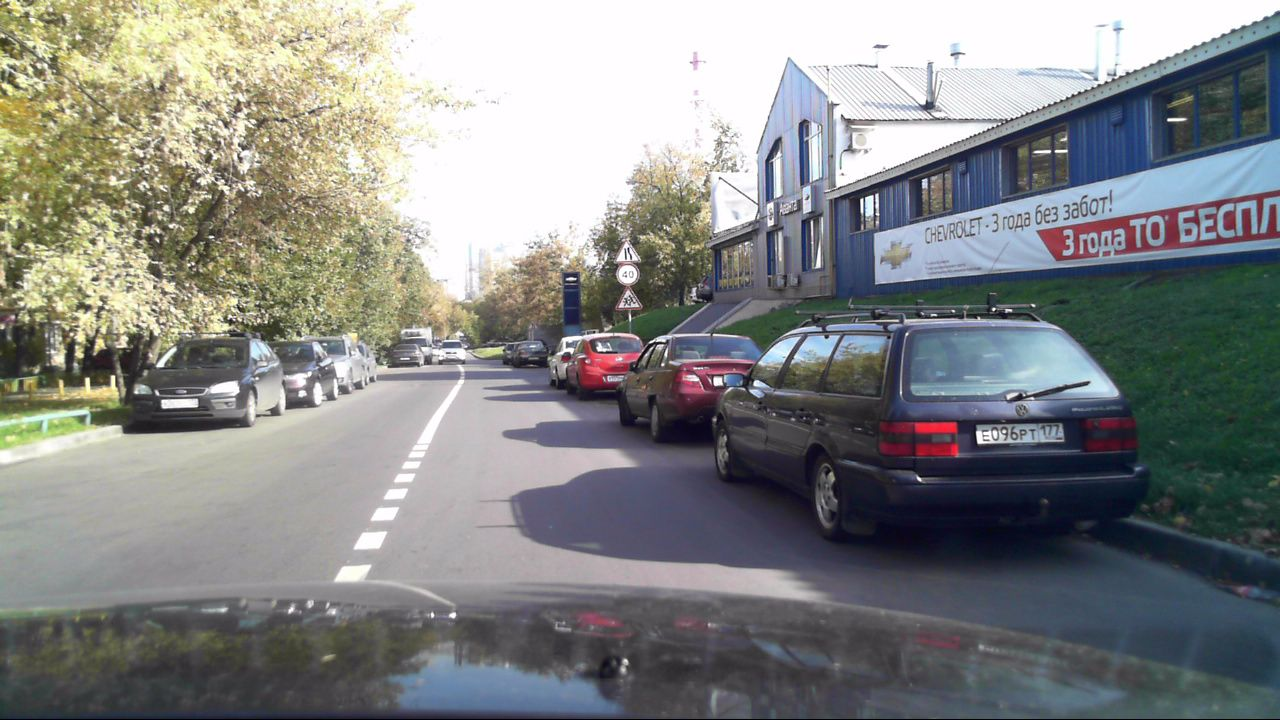speed_warning_40: (613, 260, 640, 287)
